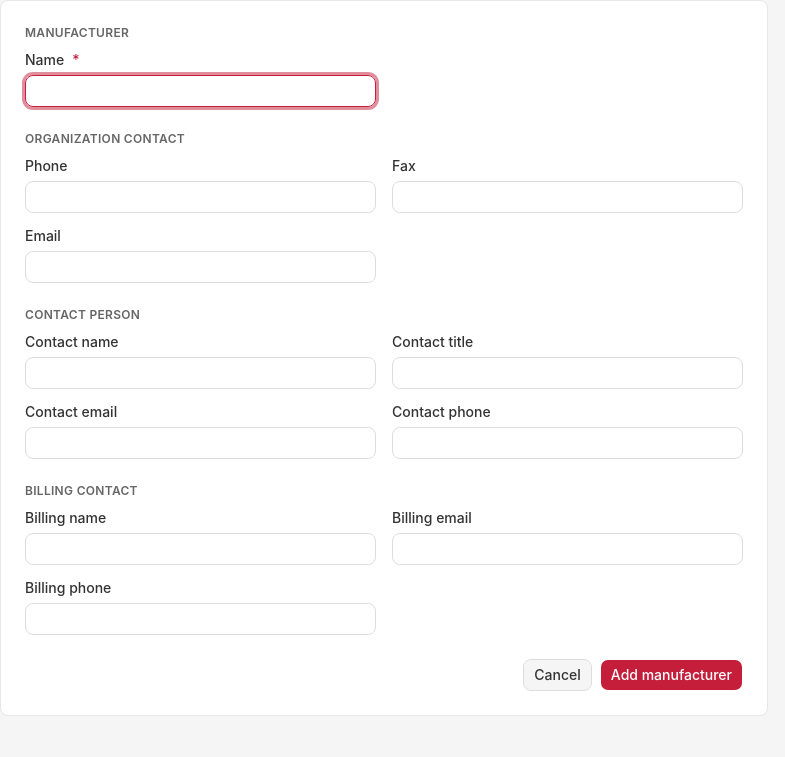
Test: the form › shows a name clash under the field, not as a form-level alert
In the field labelled "Name *": x=200, y=91 [25,75,376,107], type "Acme Ortho"
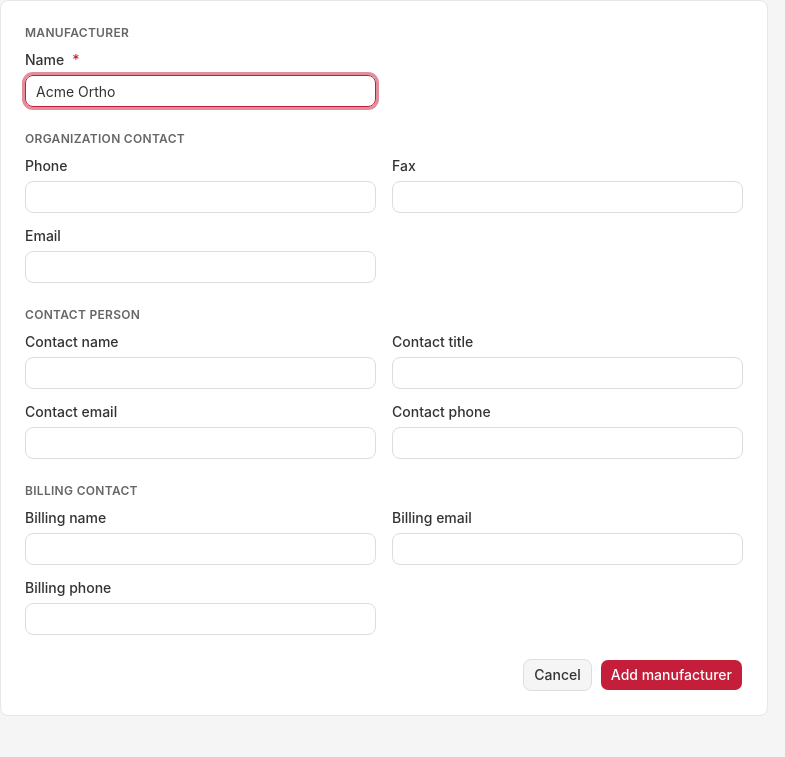
Click the button "Add manufacturer": x=671, y=675 [600,659,743,691]
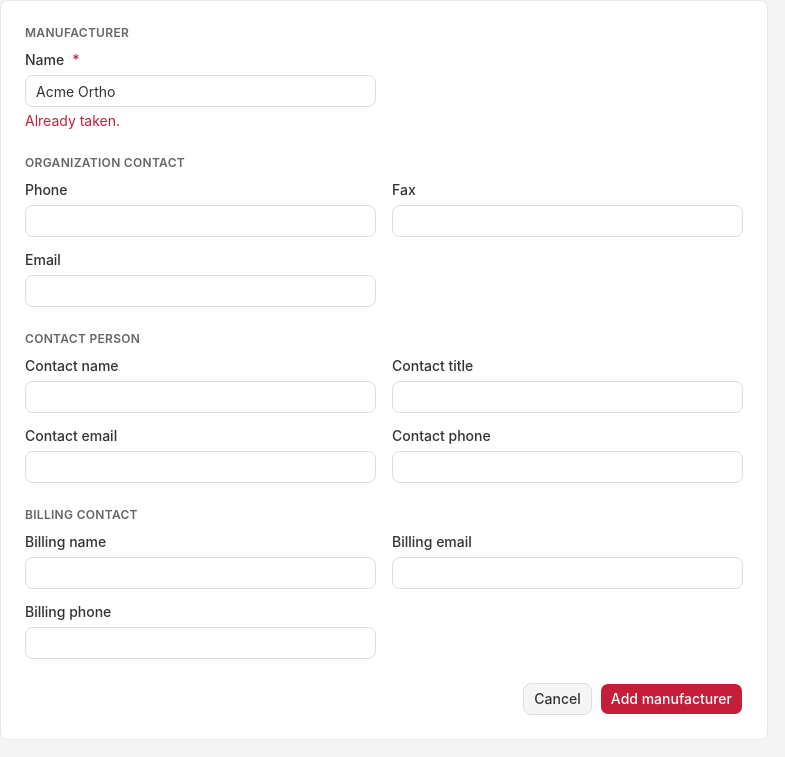
Expected: the text "Already taken." is shown, [25,112,120,129]
